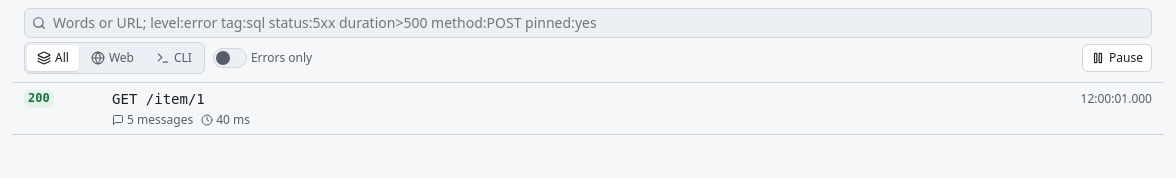
RequestList › the filter line › sends conditions as feed parameters and says what it could not read
The width and height of the screenshot is (1176, 178).
Replace the text in the dropdown named "Search" with "level:error status:5xx duration>1s checkout" at (588, 23), box [24, 8, 1152, 38]
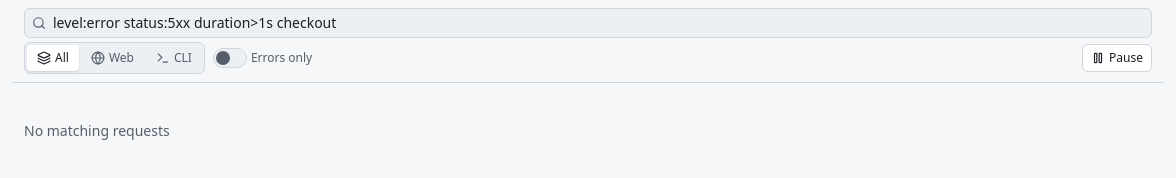
Replace the text in the dropdown named "Search" with "level:fatal" at (588, 23), box [24, 8, 1152, 38]
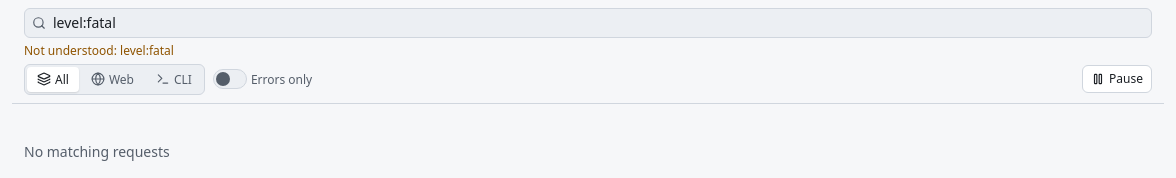
Result: the text "Not understood: level:fatal" is shown at [24, 42, 174, 59]
